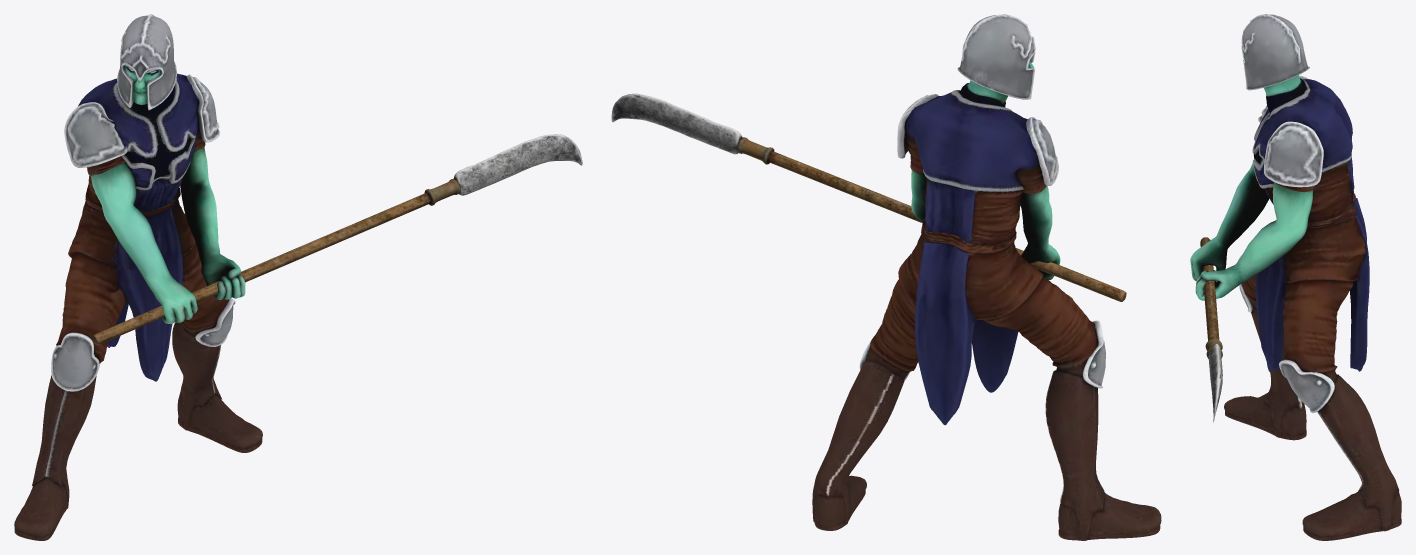
The model's file is MZ4250 - Demos Magen_glaive.glb.
3 views of the same model, side by side, from view 1: azimuth 30°, elevation 25°; view 2: azimuth 150°, elevation 25°; view 3: azimuth 270°, elevation 25° (orthographic). The views are drawn at different scales.
Visible parts, largest first — view 1: Demos Magen.002; view 2: Demos Magen.002; view 3: Demos Magen.002.
Boxes of the visible parts, x1,y1,x2,y2 form: Demos Magen.002: [14, 14, 582, 540]; Demos Magen.002: [611, 14, 1161, 540]; Demos Magen.002: [1190, 14, 1401, 540].
Bounding box in the file's own units: 216 × 179 × 74.71.
Materials: 2 (2 with a texture image).
